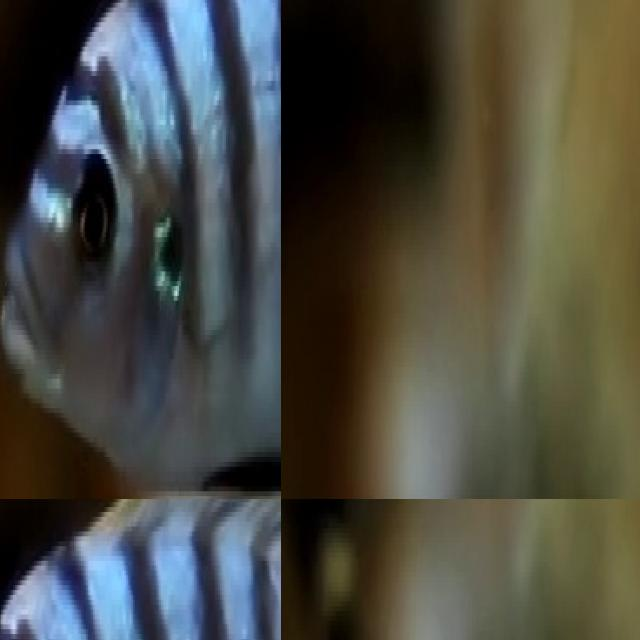fish: (0, 0, 281, 499), (0, 499, 281, 640)
